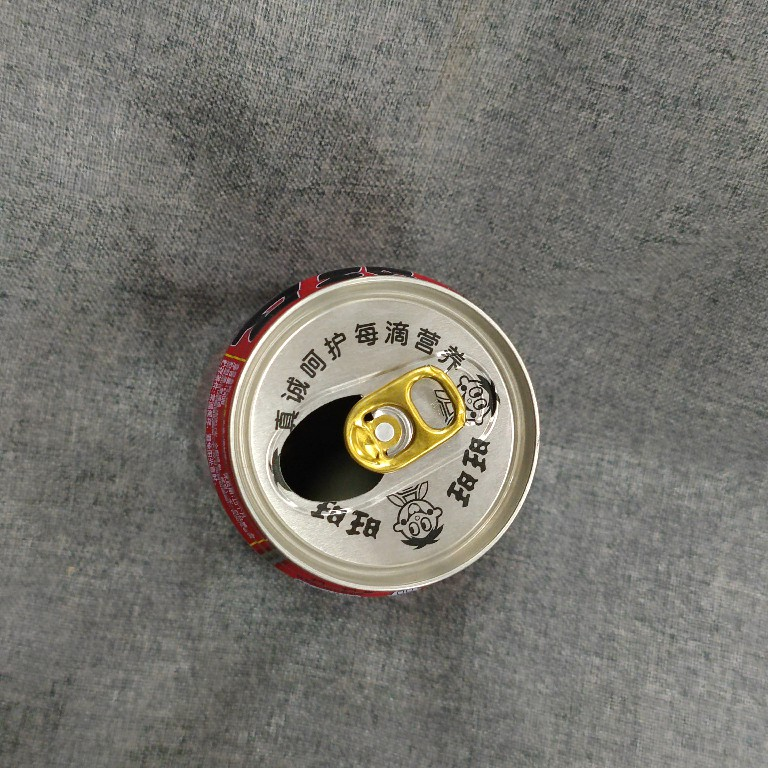can: (198, 261, 547, 601)
